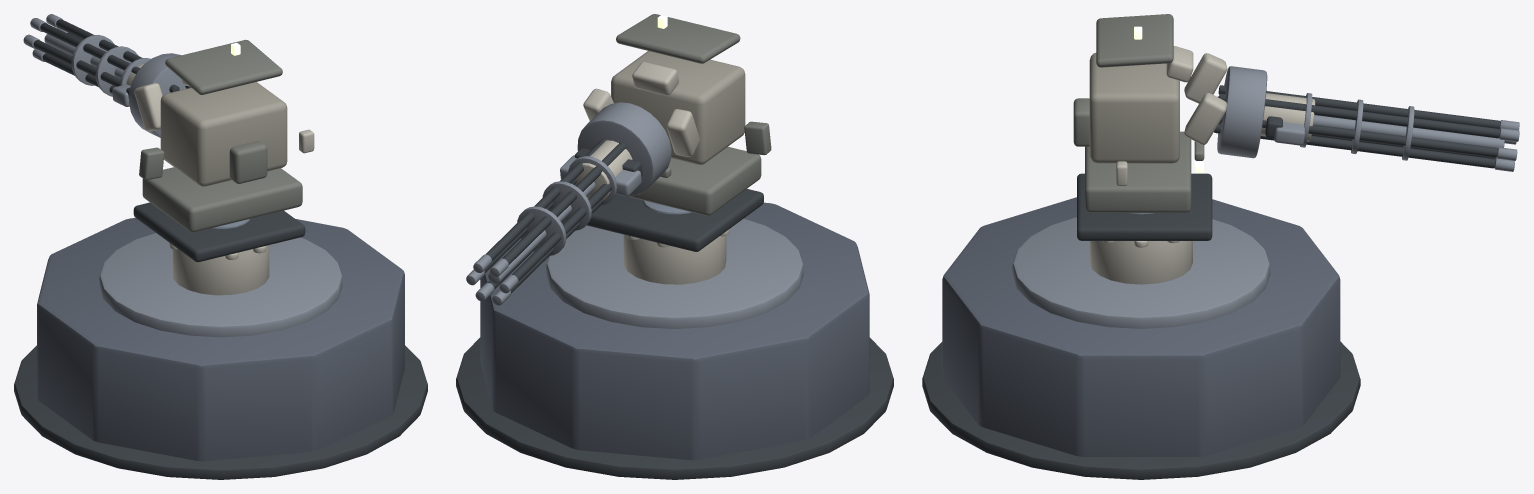
File: mg7_lvl5.glb
The picture shows the model from 3 angles, left to right: view 1: azimuth 30°, elevation 25°; view 2: azimuth 150°, elevation 25°; view 3: azimuth 270°, elevation 25°; orthographic projection. The views are drawn at different scales.
Visible parts, largest first — view 1: pedestal_skirt, pedestal_ring, pedestal_lower_ring, hull_main, hull_lower, turret_deck, roof, pedestal_collar, mantlet, rear_box, front_cheek_left, barrel_03 (+6 smaller); view 2: pedestal_skirt, pedestal_ring, pedestal_lower_ring, hull_main, turret_deck, hull_lower, mantlet, pedestal_collar, roof, barrel_03, barrel_02, front_cheek_left (+10 smaller); view 3: pedestal_skirt, pedestal_ring, pedestal_lower_ring, hull_main, hull_lower, turret_deck, pedestal_collar, roof, mantlet, barrel_02, barrel_06, barrel_01 (+7 smaller).
Part boxes in pixels (x1=…): pedestal_skirt: x1=37, y1=218, x2=404, y2=461; pedestal_ring: x1=99, y1=233, x2=342, y2=337; pedestal_lower_ring: x1=14, y1=345, x2=427, y2=479; hull_main: x1=160, y1=82, x2=287, y2=186; hull_lower: x1=142, y1=167, x2=302, y2=232; turret_deck: x1=133, y1=202, x2=305, y2=262; roof: x1=165, y1=39, x2=282, y2=94; pedestal_collar: x1=172, y1=245, x2=269, y2=295; mantlet: x1=129, y1=53, x2=186, y2=137; rear_box: x1=229, y1=141, x2=267, y2=183; front_cheek_left: x1=134, y1=83, x2=162, y2=131; barrel_03: x1=40, y1=23, x2=179, y2=92; pedestal_skirt: x1=480, y1=202, x2=869, y2=460; pedestal_ring: x1=546, y1=218, x2=803, y2=328; pedestal_lower_ring: x1=456, y1=337, x2=893, y2=479; hull_main: x1=611, y1=51, x2=745, y2=164; turret_deck: x1=586, y1=189, x2=763, y2=251; hull_lower: x1=629, y1=146, x2=761, y2=215; mantlet: x1=577, y1=102, x2=671, y2=196; pedestal_collar: x1=623, y1=234, x2=726, y2=284; roof: x1=616, y1=14, x2=740, y2=63; barrel_03: x1=502, y1=142, x2=626, y2=264; barrel_02: x1=485, y1=138, x2=607, y2=260; front_cheek_left: x1=666, y1=109, x2=699, y2=156; pedestal_skirt: x1=942, y1=197, x2=1340, y2=456; pedestal_ring: x1=1012, y1=217, x2=1270, y2=328; pedestal_lower_ring: x1=922, y1=341, x2=1360, y2=479; hull_main: x1=1089, y1=53, x2=1179, y2=163; hull_lower: x1=1085, y1=131, x2=1191, y2=212; turret_deck: x1=1077, y1=173, x2=1212, y2=240; pedestal_collar: x1=1089, y1=241, x2=1192, y2=284; roof: x1=1096, y1=14, x2=1173, y2=67; mantlet: x1=1217, y1=66, x2=1267, y2=158; barrel_02: x1=1219, y1=93, x2=1500, y2=138; barrel_06: x1=1214, y1=124, x2=1495, y2=168; barrel_01: x1=1220, y1=119, x2=1497, y2=157.
Size of the model in its own units: 1.36 by 1.27 by 1.85.
